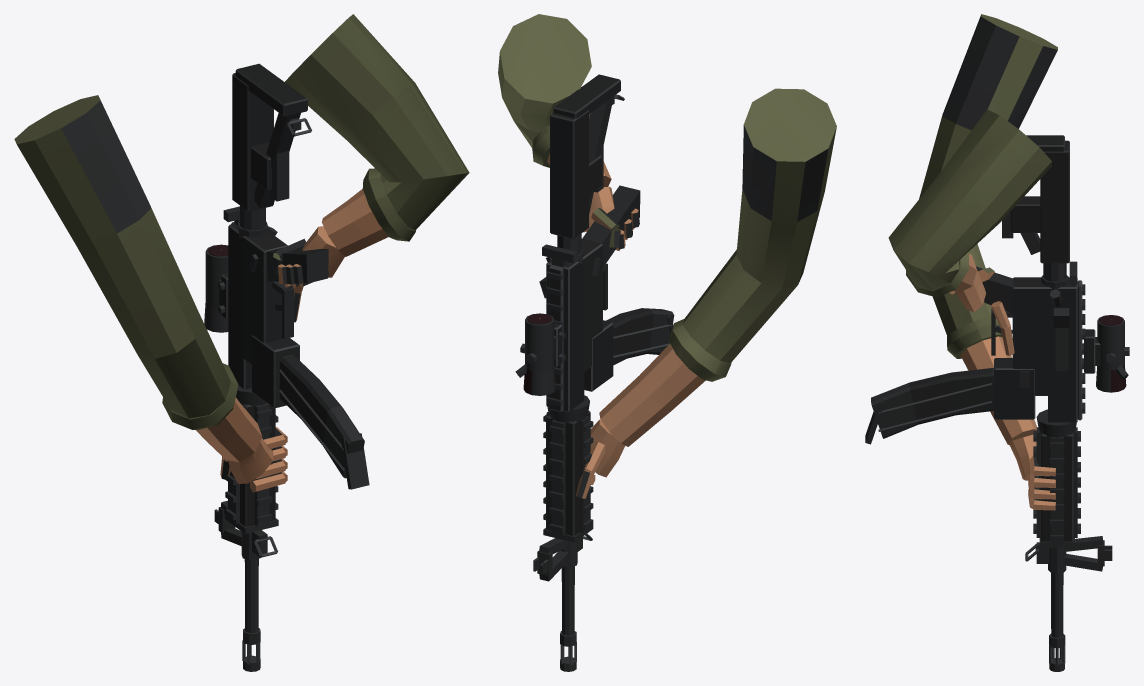
3 renders of one model, left to right at view 1: azimuth 30°, elevation 25°; view 2: azimuth 150°, elevation 25°; view 3: azimuth 270°, elevation 25°, orthographic. The views are drawn at different scales.
Parts seen in each view (by area): view 1: arms, rifle, magazine; view 2: arms, rifle, magazine; view 3: arms, rifle, magazine.
Part boxes in pixels (left/top/right/bottom): arms: left=14, top=14, right=469, bottom=492; rifle: left=204, top=63, right=328, bottom=671; magazine: left=279, top=354, right=369, bottom=489; arms: left=498, top=14, right=836, bottom=498; rifle: left=515, top=74, right=640, bottom=671; magazine: left=606, top=308, right=674, bottom=365; arms: left=888, top=14, right=1057, bottom=510; rifle: left=955, top=135, right=1129, bottom=671; magazine: left=865, top=368, right=993, bottom=444.
Size of the model in its own units: 0.5612 by 0.9049 by 0.3726.
